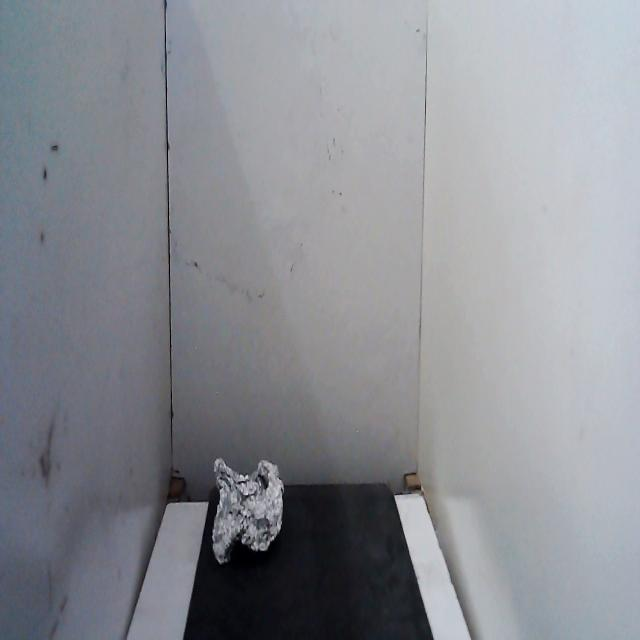metal: (207, 451, 289, 577)
